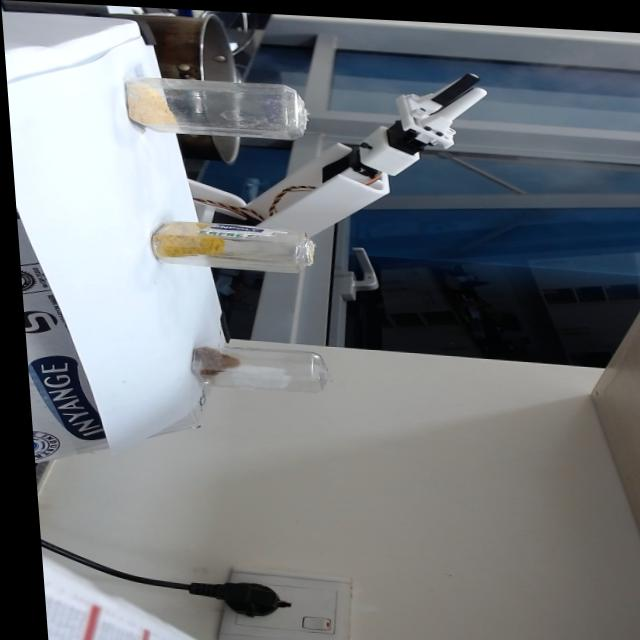cooking_pot: (92, 7, 236, 81)
curry_powder: (144, 217, 222, 259)
garlic_powder: (124, 79, 176, 133)
maggie_open: (187, 343, 235, 379)
